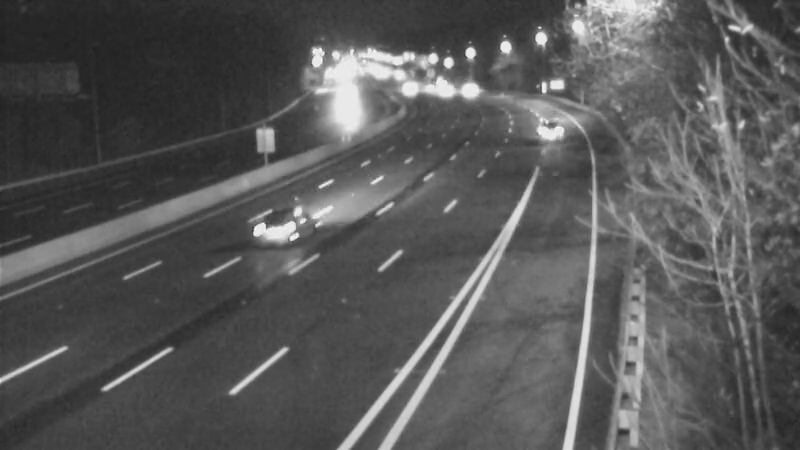vehicle: (238, 185, 318, 265), (451, 61, 501, 111), (382, 68, 432, 118), (416, 65, 466, 115), (528, 104, 578, 154)
